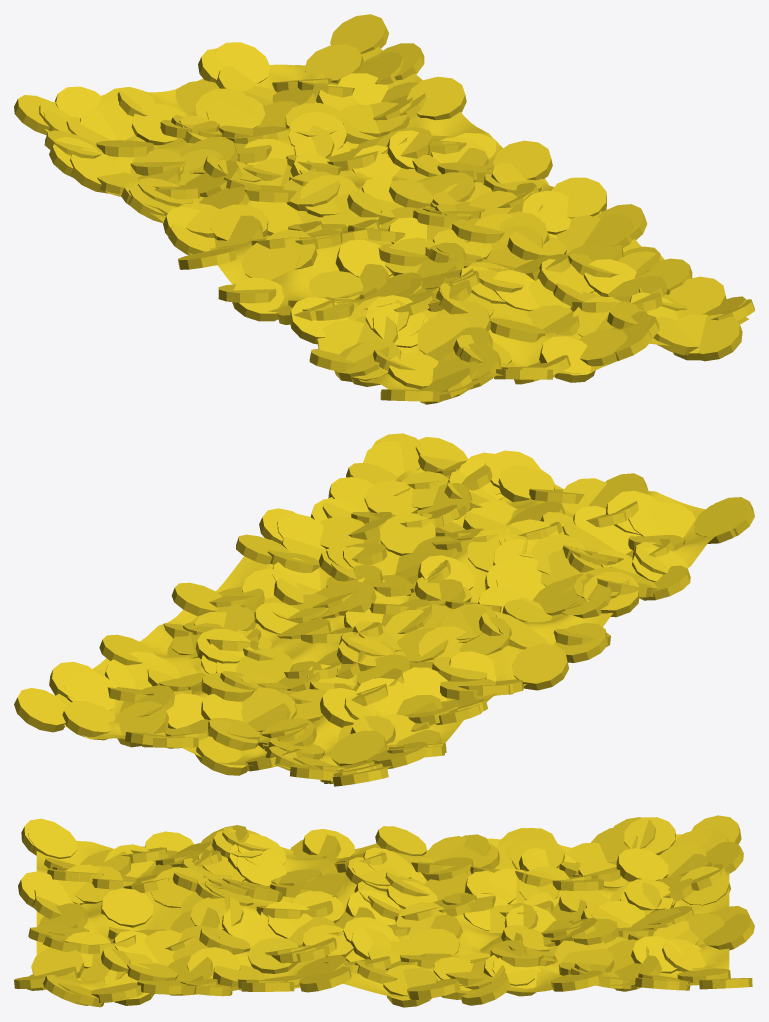
Rendered from chest_coins.fbx.
3 renders of one model, top to bottom at view 1: azimuth 30°, elevation 25°; view 2: azimuth 150°, elevation 25°; view 3: azimuth 270°, elevation 25°, orthographic. The views are drawn at different scales.
Visible parts, largest first — view 1: Coin.001; view 2: Coin.001; view 3: Coin.001.
Part boxes in pixels (bbox=[...]): Coin.001: bbox=[14, 14, 754, 404]; Coin.001: bbox=[14, 433, 754, 786]; Coin.001: bbox=[14, 815, 754, 1007].
Bounding box in the file's own units: 45.31 × 5.63 × 83.84.
